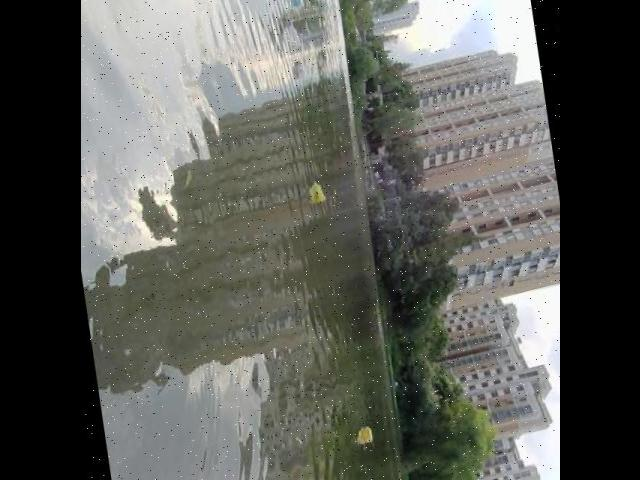Bottle: (351, 413, 379, 459)
